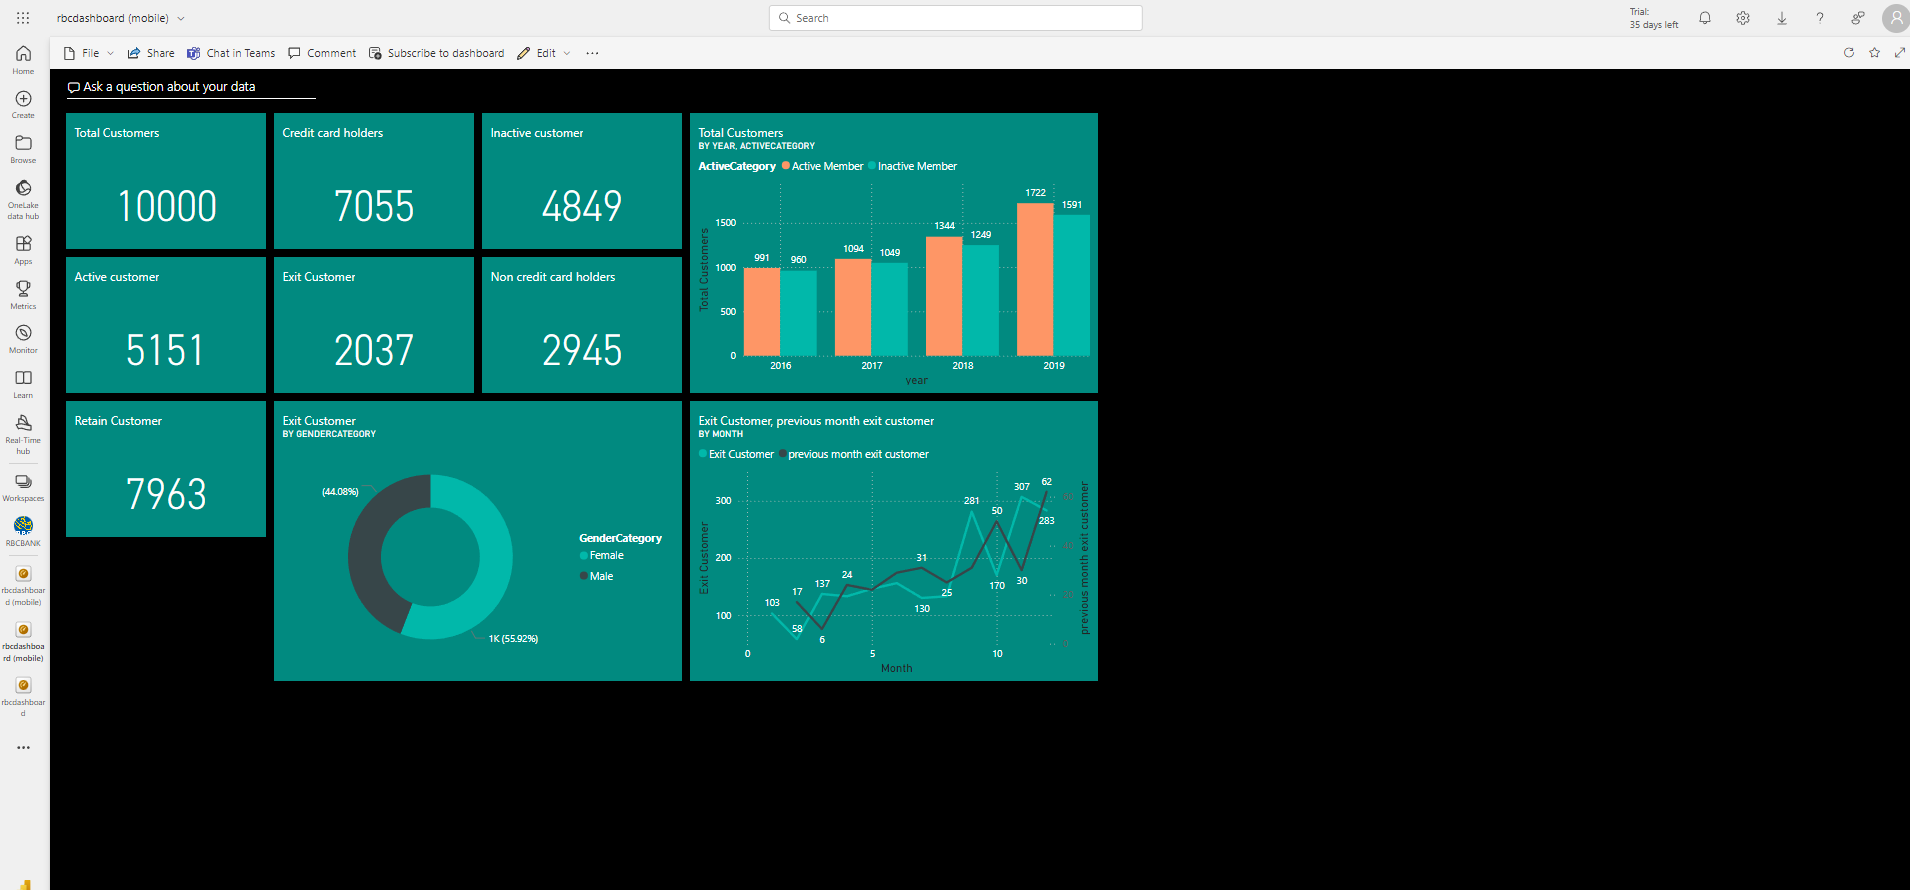

This screenshot's page, from the dashboard's own definition file:
{"tool":"powerbi","page":{"name":"Homepage","canvas":[1280,720],"ordinal":0},"visuals":[{"type":"card","fields":{"Values":["Calculation.Active customer"]},"box":[190.2,61.5,163.9,114.1],"z":0},{"type":"card","fields":{"Values":["Calculation.Inactive customer"]},"box":[380.5,61.5,163.9,115.6],"z":1000},{"type":"card","fields":{"Values":["Calculation.Total Customers"]},"box":[0,61.5,163.9,114.1],"z":2000},{"type":"card","fields":{"Values":["Calculation.Exit Customer"]},"box":[967.3,61.5,146.3,115.6],"z":3000},{"type":"card","fields":{"Values":["Calculation.Retain Customer"]},"box":[1129.8,61.5,150.7,115.6],"z":4000},{"type":"textbox","box":[0,0,1280,62.2],"z":5000},{"type":"image","box":[0,0,104.1,73.9],"z":6000},{"type":"card","fields":{"Values":["Calculation.Credit card holders"]},"box":[570.7,61.5,163.9,115.6],"z":7000},{"type":"card","fields":{"Values":["Calculation.Non credit card holders"]},"box":[762.4,61.5,193.2,115.6],"z":8000},{"type":"shape","box":[0,120,1280.5,150.7],"z":9000},{"type":"shape","box":[41,196.1,421.5,523.9],"z":10000},{"type":"slicer","fields":{"Values":["DateMaster.year"]},"box":[0,196.1,240,74.6],"z":11000},{"type":"slicer","fields":{"Values":["DateMaster.Month Name"]},"box":[0,270.7,240,74.6],"z":12000},{"type":"slicer","fields":{"Values":["ExitCustomer.ExitCategory"]},"box":[0,345.4,240,65.9],"z":13000},{"type":"slicer","fields":{"Values":["Geography.GeographyLocation"]},"box":[0,412.7,240,71.7],"z":14000},{"type":"slicer","fields":{"Values":["Gender.GenderCategory"]},"box":[0,484.4,240,70.2],"z":15000},{"type":"slicer","fields":{"Values":["ActiveCustomer.ActiveCategory"]},"box":[0,554.6,240,77.6],"z":16000},{"type":"clusteredColumnChart","fields":{"Category":["DateMaster.year","DateMaster.Month Name"],"Y":["Calculation.Total Customers"],"Series":["ActiveCustomer.ActiveCategory"]},"box":[251.7,196.1,446.3,225.4],"z":17000},{"type":"lineChart","fields":{"Category":["DateMaster.Month"],"Y":["Calculation.Exit Customer"],"Y2":["Calculation.previous month exit customer"]},"box":[734.6,196.1,534.1,241.5],"z":18000},{"type":"donutChart","fields":{"Y":["Calculation.Exit Customer"],"Category":["Gender.GenderCategory"]},"box":[251.5,476.3,318.5,244.1],"z":19000},{"type":"pieChart","fields":{"Category":["CredidCard.Category"],"Y":["Calculation.Exit Customer"]},"box":[544.7,474.8,318.5,245.6],"z":21000},{"type":"bookmarkNavigator","box":[251.5,412.3,401.9,62.5],"z":22000},{"type":"actionButton","box":[1217.5,10.4,62.5,40.2],"z":22001},{"type":"textbox","box":[864,475,405,245],"z":22002},{"type":"qnaVisual","box":[0,570,150,150],"z":22003}]}

Visuals, with their boxes on the page's 1280x720 design canvas (x1, y1, x2, y2). These are canvas units, not pixel positions in the 1910x890 screenshot, which may show the page scaled, cropped or inside an application window:
card - Calculation.Active customer: region(190, 62, 354, 176)
card - Calculation.Inactive customer: region(380, 62, 544, 177)
card - Calculation.Total Customers: region(0, 62, 164, 176)
card - Calculation.Exit Customer: region(967, 62, 1114, 177)
card - Calculation.Retain Customer: region(1130, 62, 1280, 177)
textbox: region(0, 0, 1280, 62)
image: region(0, 0, 104, 74)
card - Calculation.Credit card holders: region(571, 62, 735, 177)
card - Calculation.Non credit card holders: region(762, 62, 956, 177)
shape: region(0, 120, 1280, 271)
shape: region(41, 196, 462, 720)
slicer - DateMaster.year: region(0, 196, 240, 271)
slicer - DateMaster.Month Name: region(0, 271, 240, 345)
slicer - ExitCustomer.ExitCategory: region(0, 345, 240, 411)
slicer - Geography.GeographyLocation: region(0, 413, 240, 484)
slicer - Gender.GenderCategory: region(0, 484, 240, 555)
slicer - ActiveCustomer.ActiveCategory: region(0, 555, 240, 632)
clusteredColumnChart - DateMaster.year x DateMaster.Month Name: region(252, 196, 698, 422)
lineChart - DateMaster.Month x Calculation.Exit Customer: region(735, 196, 1269, 438)
donutChart - Calculation.Exit Customer x Gender.GenderCategory: region(252, 476, 570, 720)
pieChart - CredidCard.Category x Calculation.Exit Customer: region(545, 475, 863, 720)
bookmarkNavigator: region(252, 412, 653, 475)
actionButton: region(1218, 10, 1280, 51)
textbox: region(864, 475, 1269, 720)
qnaVisual: region(0, 570, 150, 720)
